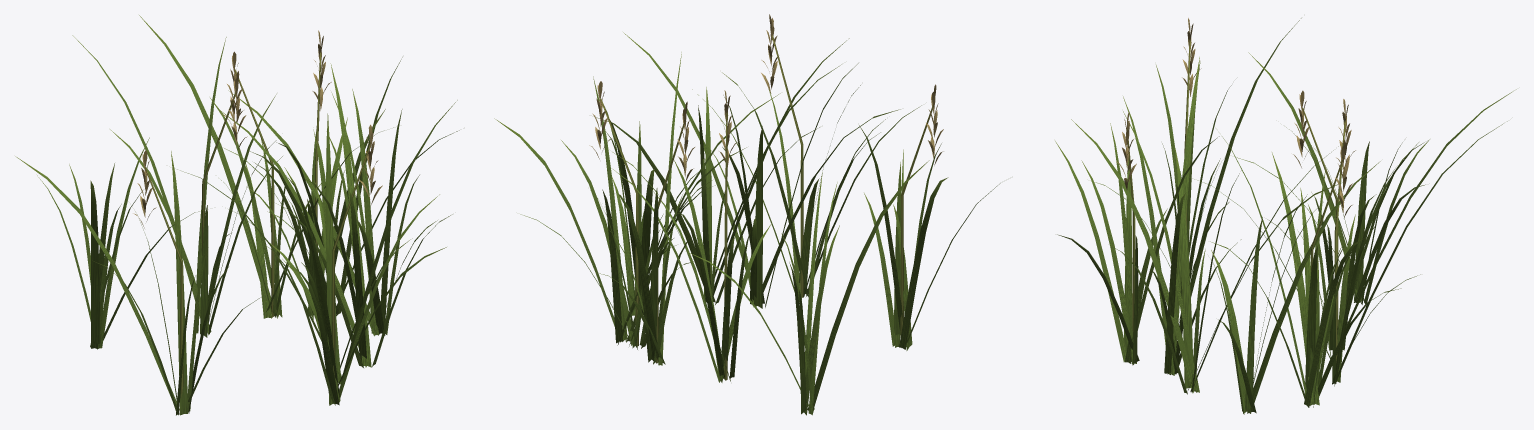
Rendered from MeadowFescue_C.fbx.
3 renders of one model, left to right at view 1: azimuth 30°, elevation 25°; view 2: azimuth 150°, elevation 25°; view 3: azimuth 270°, elevation 25°, orthographic. The views are drawn at different scales.
Parts seen in each view (by area): view 1: MeadowFescue_C_LOD0; view 2: MeadowFescue_C_LOD0; view 3: MeadowFescue_C_LOD0.
Part boxes in pixels (bbox=[...]): MeadowFescue_C_LOD0: bbox=[15, 15, 459, 415]; MeadowFescue_C_LOD0: bbox=[494, 14, 1000, 415]; MeadowFescue_C_LOD0: bbox=[1055, 18, 1516, 414].
Size of what is drawn, in the model's own units: 55.34 by 34.39 by 53.75.
Materials: 1 (1 with a texture image).
